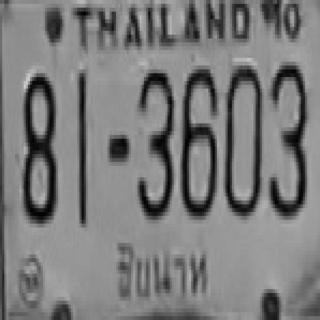N00: (223, 62, 262, 216)
N01: (75, 68, 86, 226)
N03: (266, 58, 307, 212), (135, 66, 172, 216)
N06: (180, 66, 217, 216)
N08: (22, 69, 56, 220)
P08: (108, 234, 211, 306)
